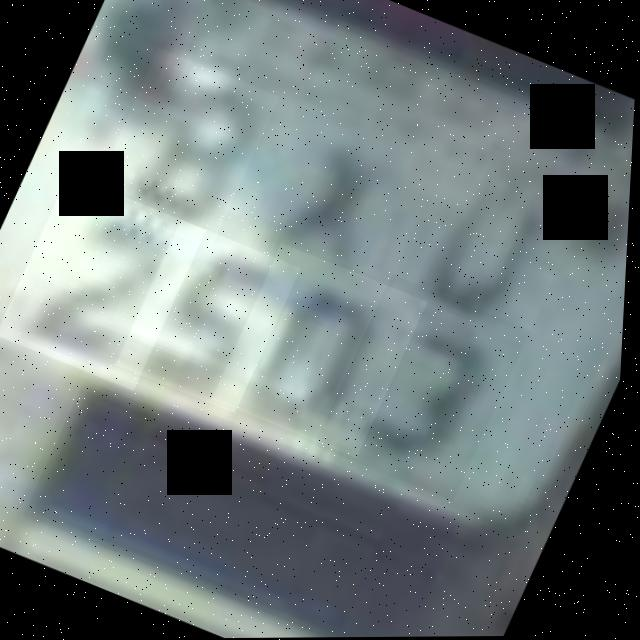0: (212, 242, 432, 459)
2: (0, 173, 211, 391)
3: (317, 274, 536, 503)
5: (117, 219, 305, 414)
B: (89, 47, 283, 250)
U: (391, 134, 598, 347)
